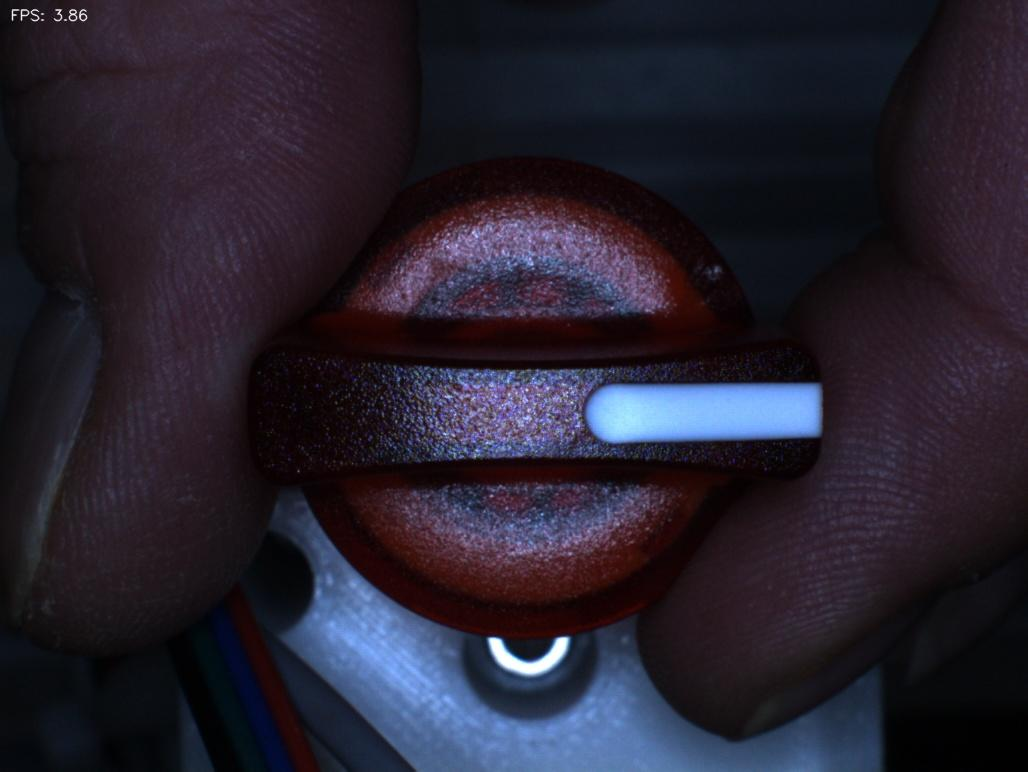Choc: (672, 232, 745, 306)
